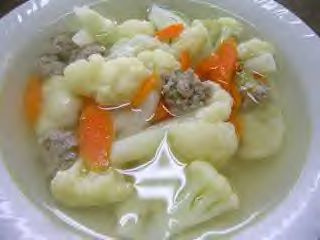cauliflower: (25, 5, 282, 239)
